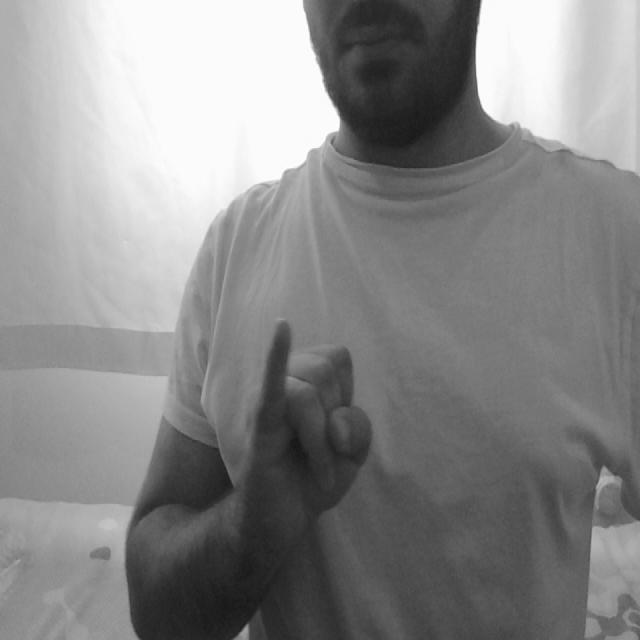kotu: (239, 312, 386, 534)
